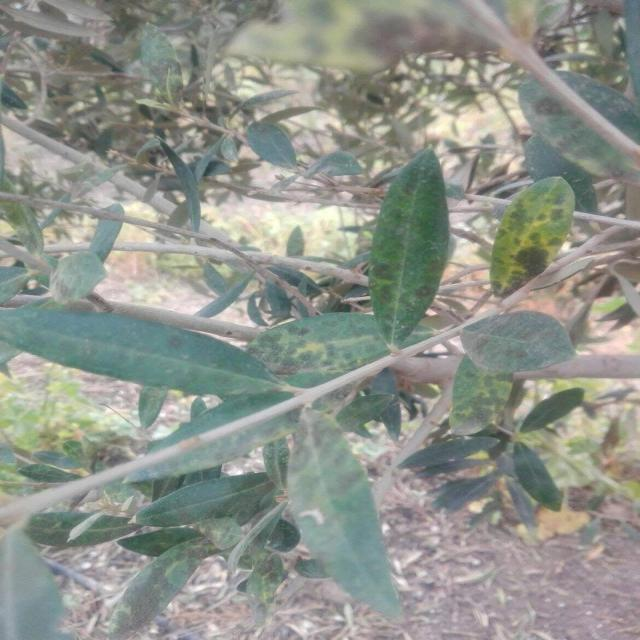Peacock Eye: (287, 410, 399, 614), (368, 148, 449, 348), (247, 312, 389, 388), (490, 177, 575, 298), (461, 310, 575, 374), (449, 358, 512, 435)
